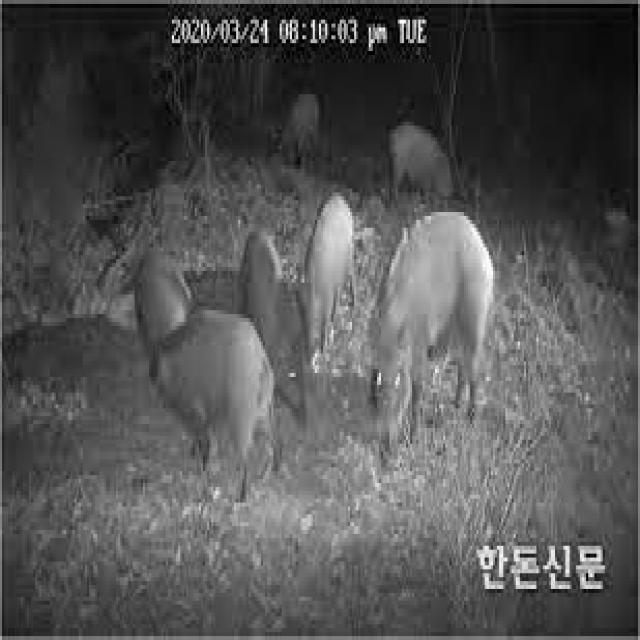boar: (353, 218, 539, 434)
